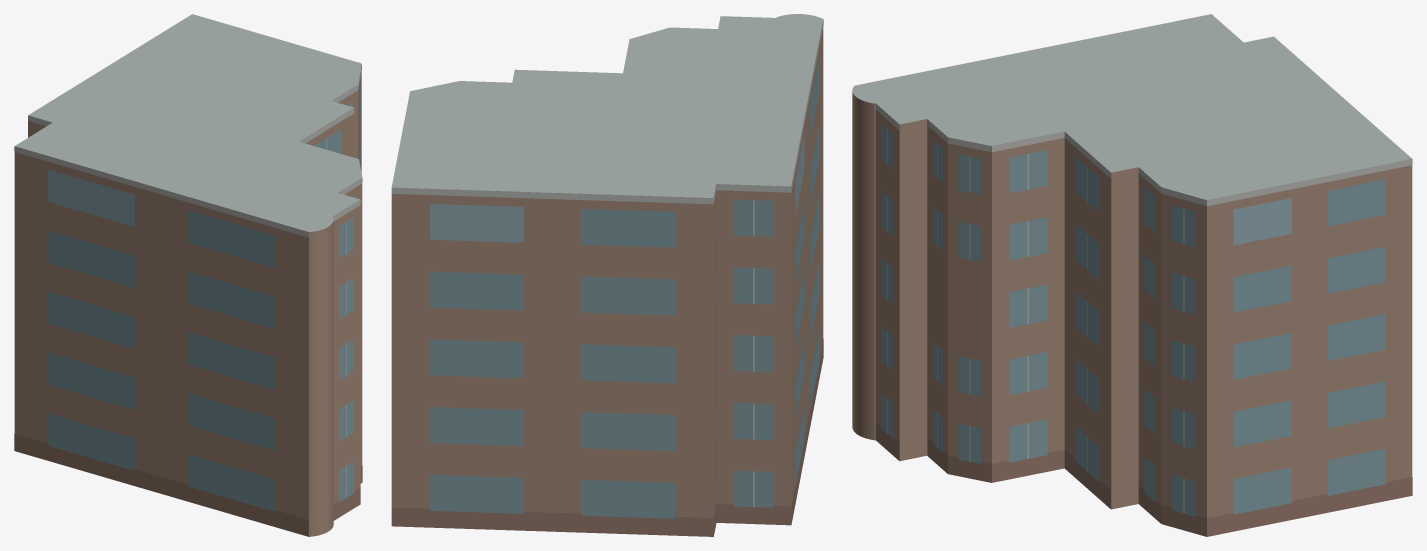
Rendered from survey-upis-32744161.glb.
3 views of the same model, side by side, from view 1: azimuth 30°, elevation 25°; view 2: azimuth 150°, elevation 25°; view 3: azimuth 270°, elevation 25° (orthographic). The views are drawn at different scales.
Visible parts, largest first — view 1: survey-upis-32744161.tmp; view 2: survey-upis-32744161.tmp; view 3: survey-upis-32744161.tmp.
Boxes of the visible parts, x1,y1,x2,y2 form: survey-upis-32744161.tmp: (14, 14, 362, 536); survey-upis-32744161.tmp: (391, 14, 823, 536); survey-upis-32744161.tmp: (852, 14, 1412, 536).
Bounding box in the file's own units: 15.71 × 13.25 × 19.98.
